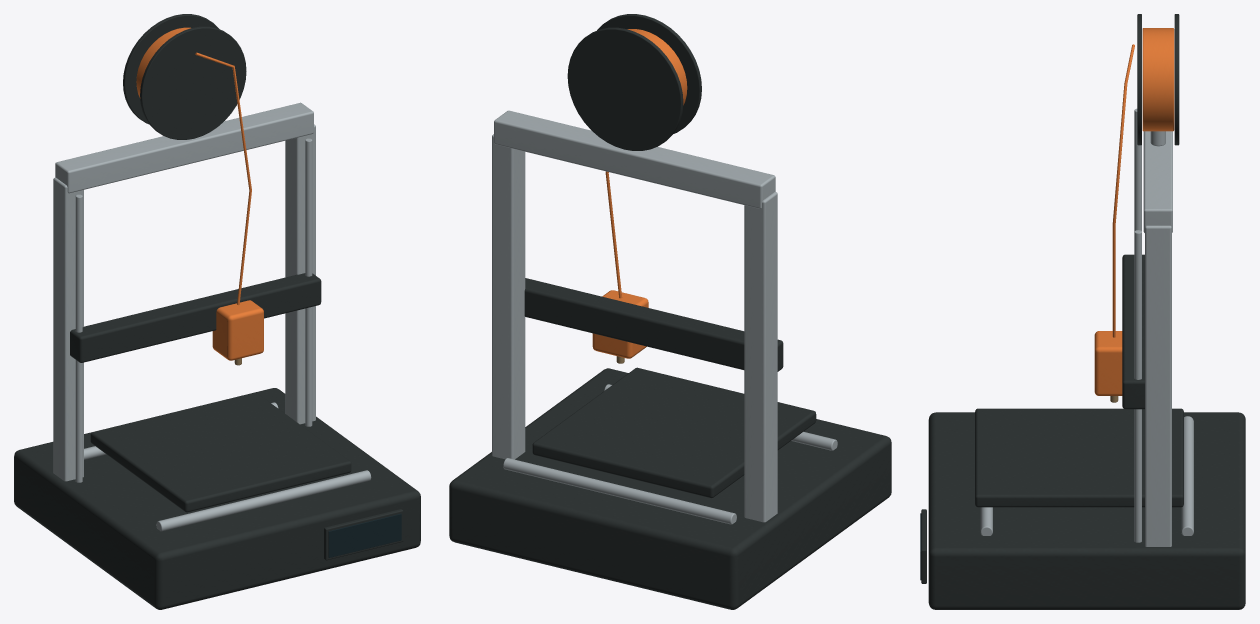
File: desktop-3d-printer.glb
3 views of the same model, side by side, from view 1: azimuth 30°, elevation 25°; view 2: azimuth 150°, elevation 25°; view 3: azimuth 270°, elevation 25° (orthographic). The views are drawn at different scales.
Visible parts, largest first — view 1: Printer electronic base, Heated build platform, Filament spool flange, Upper gantry cross rail, Moving X gantry, Vertical aluminum extrusion, Vertical aluminum extrusion.001, Print carriage, Bed linear rail, Filament spool flange.001, Vertical lead screw, Vertical lead screw.001 (+4 smaller); view 2: Printer electronic base, Heated build platform, Filament spool flange.001, Vertical aluminum extrusion, Vertical aluminum extrusion.001, Upper gantry cross rail, Moving X gantry, Bed linear rail.001, Filament spool flange, Print carriage, Wound filament; view 3: Printer electronic base, Heated build platform, Vertical aluminum extrusion.001, Wound filament, Moving X gantry, Upper gantry cross rail, Vertical lead screw.001, Print carriage, Bed linear rail.001, Filament feed, Vertical lead screw, Filament spool flange.001 (+2 smaller).
Part boxes in pixels (x1,y1,x2,y2): Printer electronic base: [14, 388, 420, 609]; Heated build platform: [90, 392, 351, 512]; Filament spool flange: [140, 26, 246, 139]; Upper gantry cross rail: [55, 102, 313, 193]; Moving X gantry: [70, 273, 321, 362]; Vertical aluminum extrusion: [53, 177, 83, 481]; Vertical aluminum extrusion.001: [285, 124, 315, 424]; Print carriage: [212, 300, 263, 360]; Bed linear rail: [156, 470, 371, 531]; Filament spool flange.001: [123, 14, 218, 124]; Vertical lead screw: [75, 194, 82, 482]; Vertical lead screw.001: [305, 138, 312, 426]; Printer electronic base: [449, 368, 891, 609]; Heated build platform: [532, 367, 816, 498]; Filament spool flange.001: [567, 27, 683, 150]; Vertical aluminum extrusion: [744, 192, 777, 522]; Vertical aluminum extrusion.001: [492, 134, 525, 459]; Upper gantry cross rail: [494, 110, 775, 208]; Moving X gantry: [524, 278, 783, 371]; Bed linear rail.001: [503, 458, 736, 524]; Filament spool flange: [597, 14, 701, 133]; Print carriage: [592, 290, 648, 358]; Wound filament: [627, 29, 687, 105]; Printer electronic base: [928, 412, 1245, 609]; Heated build platform: [975, 408, 1183, 507]; Vertical aluminum extrusion.001: [1145, 225, 1171, 546]; Wound filament: [1142, 28, 1174, 131]; Moving X gantry: [1122, 254, 1144, 409]; Upper gantry cross rail: [1143, 131, 1172, 232]; Vertical lead screw.001: [1134, 230, 1141, 542]; Print carriage: [1094, 331, 1122, 395]; Bed linear rail.001: [1181, 416, 1193, 535]; Filament feed: [1112, 44, 1134, 337]; Vertical lead screw: [1134, 108, 1141, 231]; Filament spool flange.001: [1174, 14, 1179, 145].
Bounding box in the file's own units: 0.43 × 0.745 × 0.421.
Materials: 5 (5 with a texture image).
